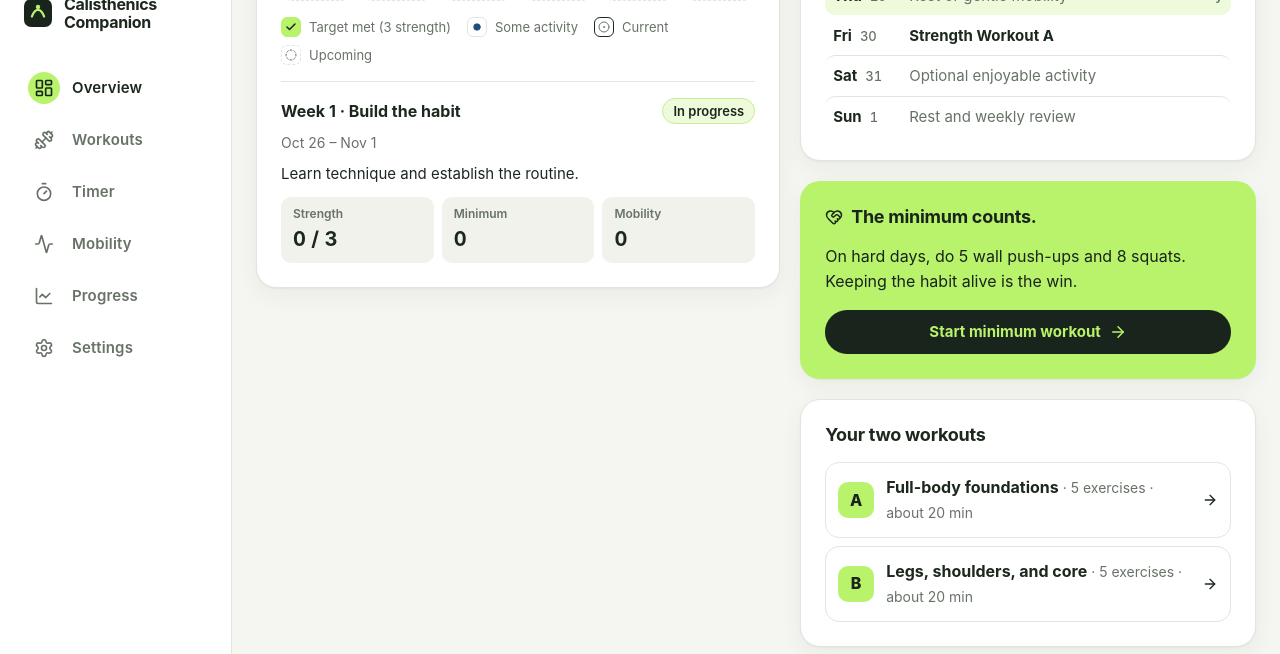
Calisthenics Companion app › logs minimum workouts separately from full strength sessions
The width and height of the screenshot is (1280, 654).
(page scrolled)
Click the button "Start minimum workout" at (1028,332), box x1=825 y1=310 x2=1231 y2=354
(page scrolled)
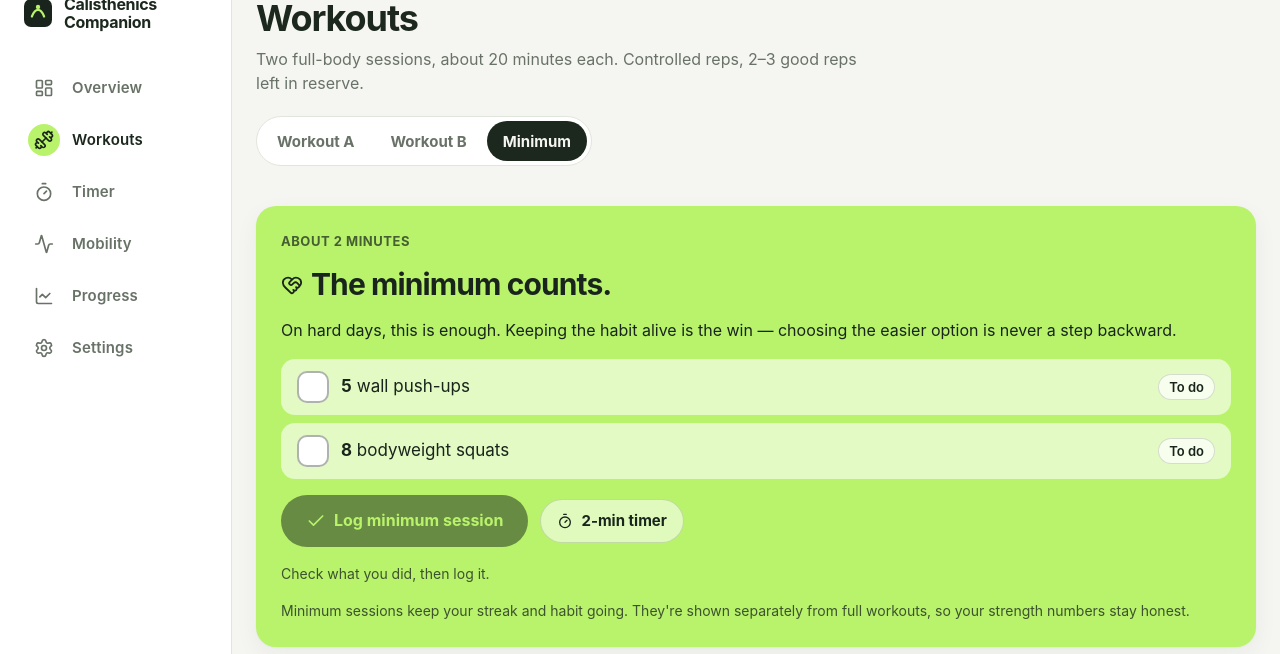
expect the button "Log minimum session" is disabled: met, box x1=281 y1=495 x2=528 y2=547
Click the checkbox labelled "5 wall push-ups To do" at (313,387), box x1=281 y1=359 x2=1231 y2=415
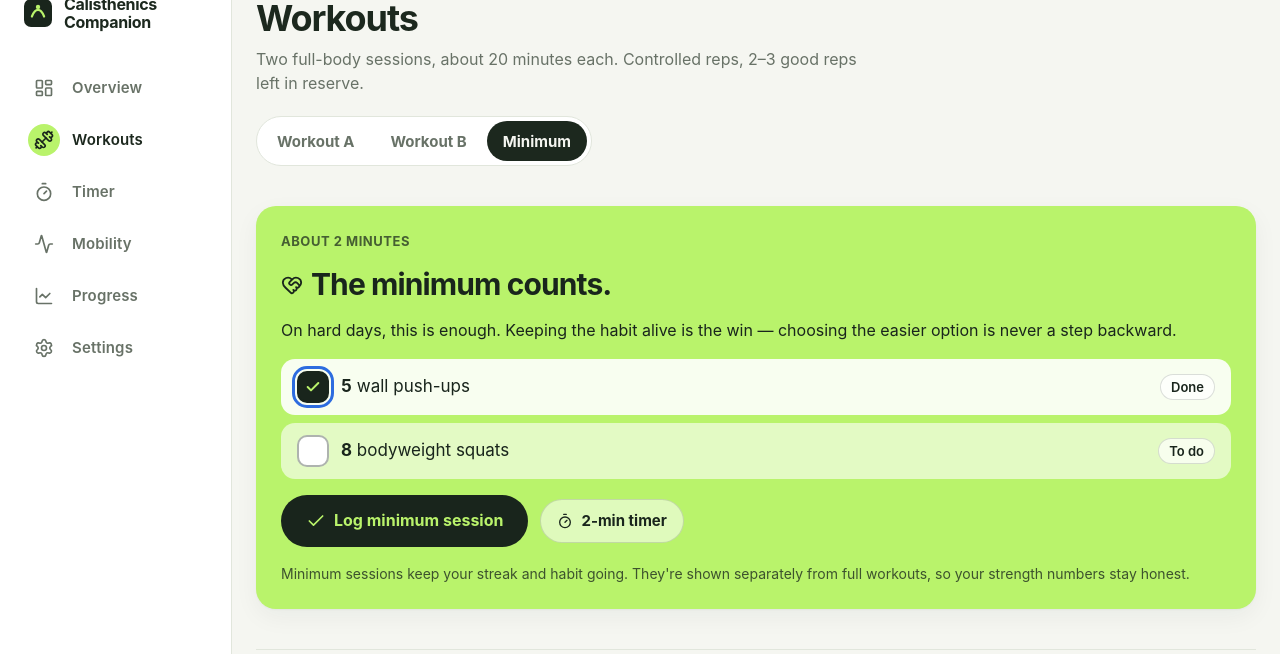
Click the button "Log minimum session" at (405,521), box x1=281 y1=495 x2=528 y2=547
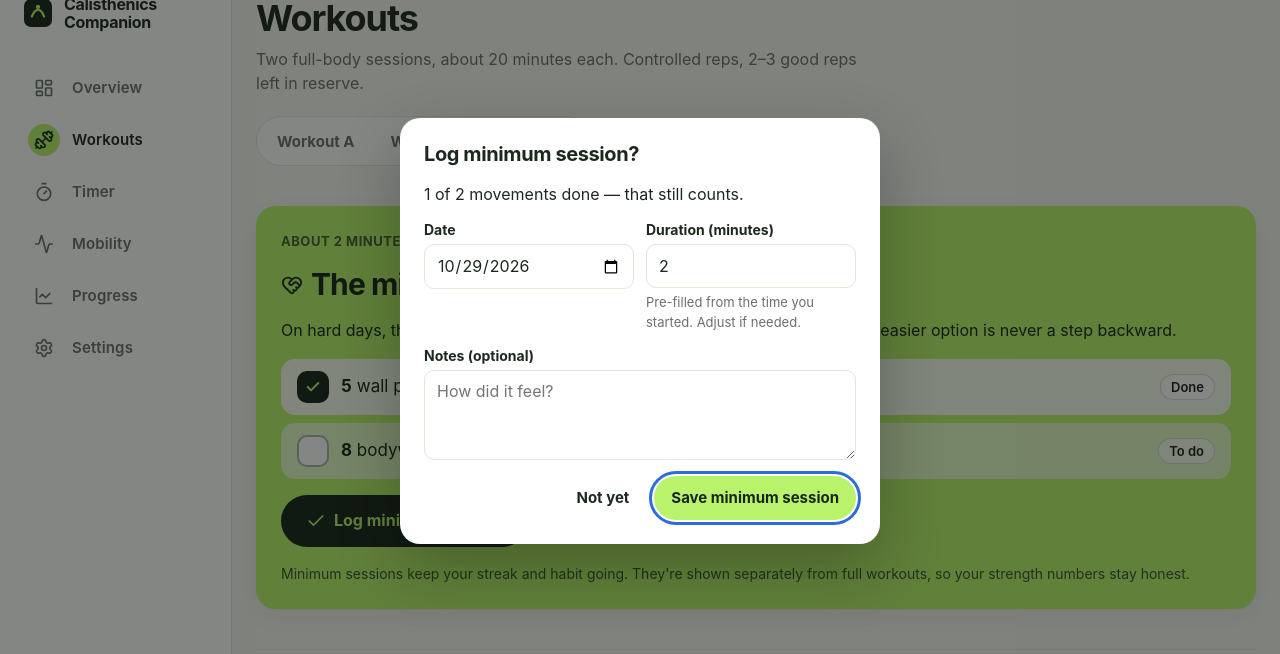
Click the button "Save minimum session" at (755,498), box x1=654 y1=476 x2=856 y2=520
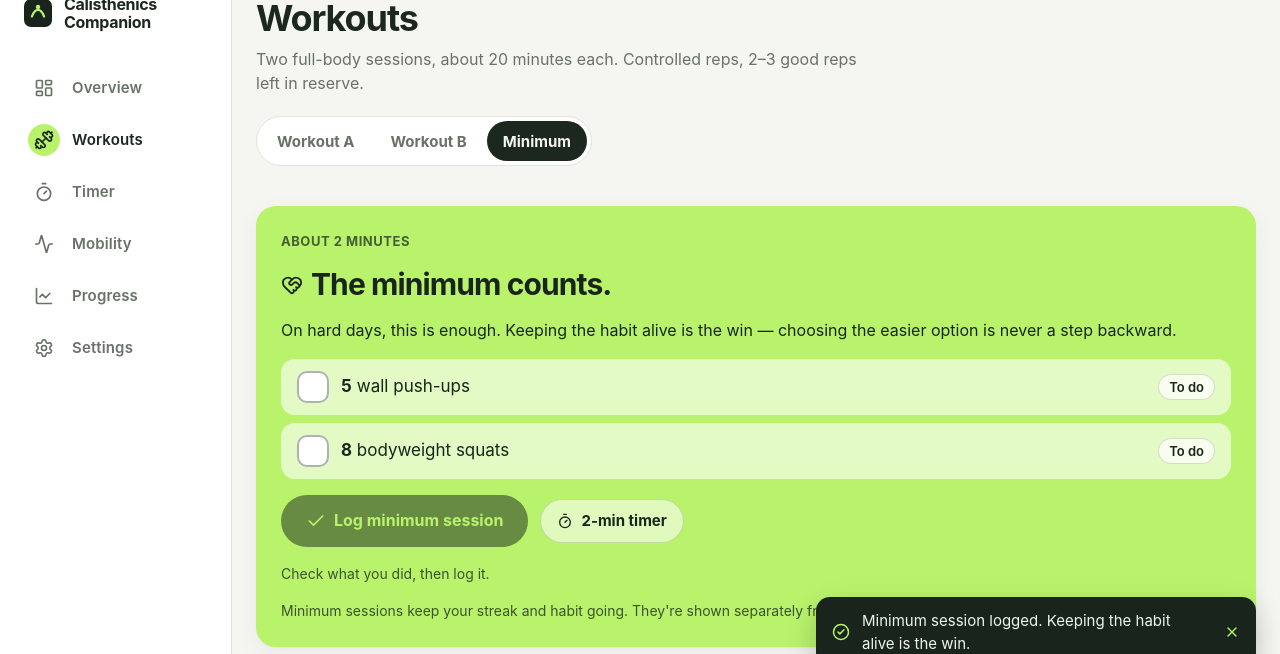
Click the link "Overview" at (88,88), box x1=34 y1=78 x2=142 y2=98
(page scrolled)
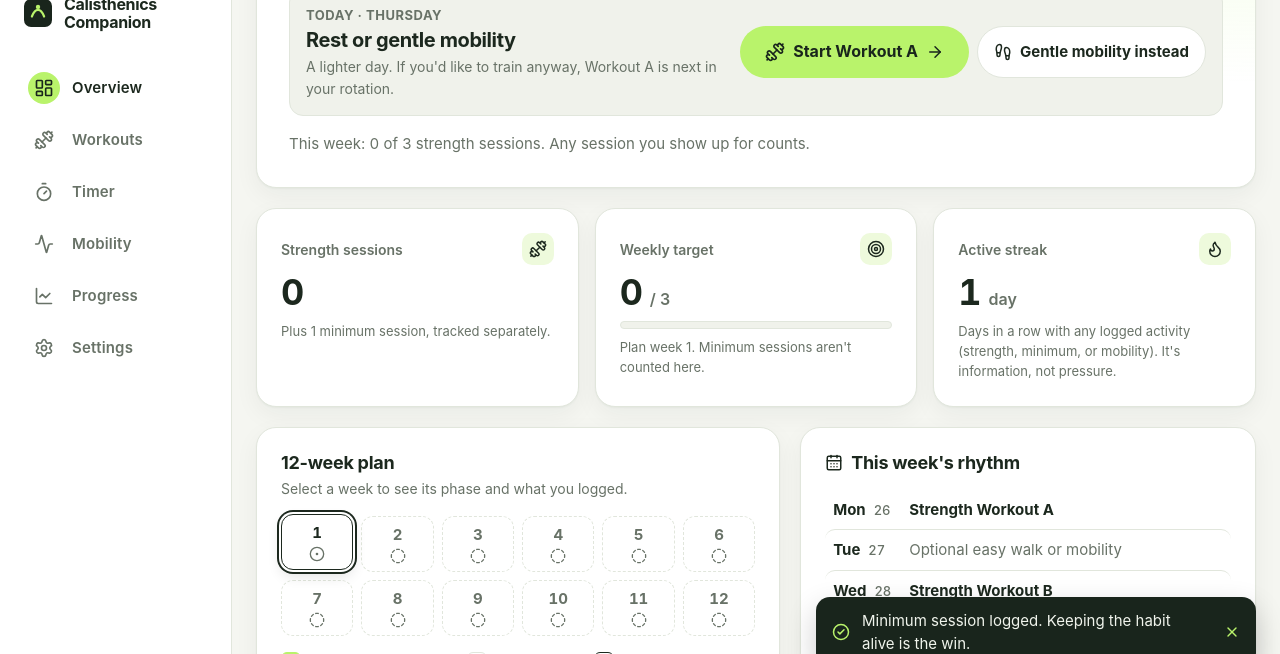
expect the 2nd text "0" is shown: met, box x1=281 y1=274 x2=303 y2=313
expect the text "Plus 1 minimum session, tracked separately." is shown: met, box x1=281 y1=321 x2=554 y2=341
